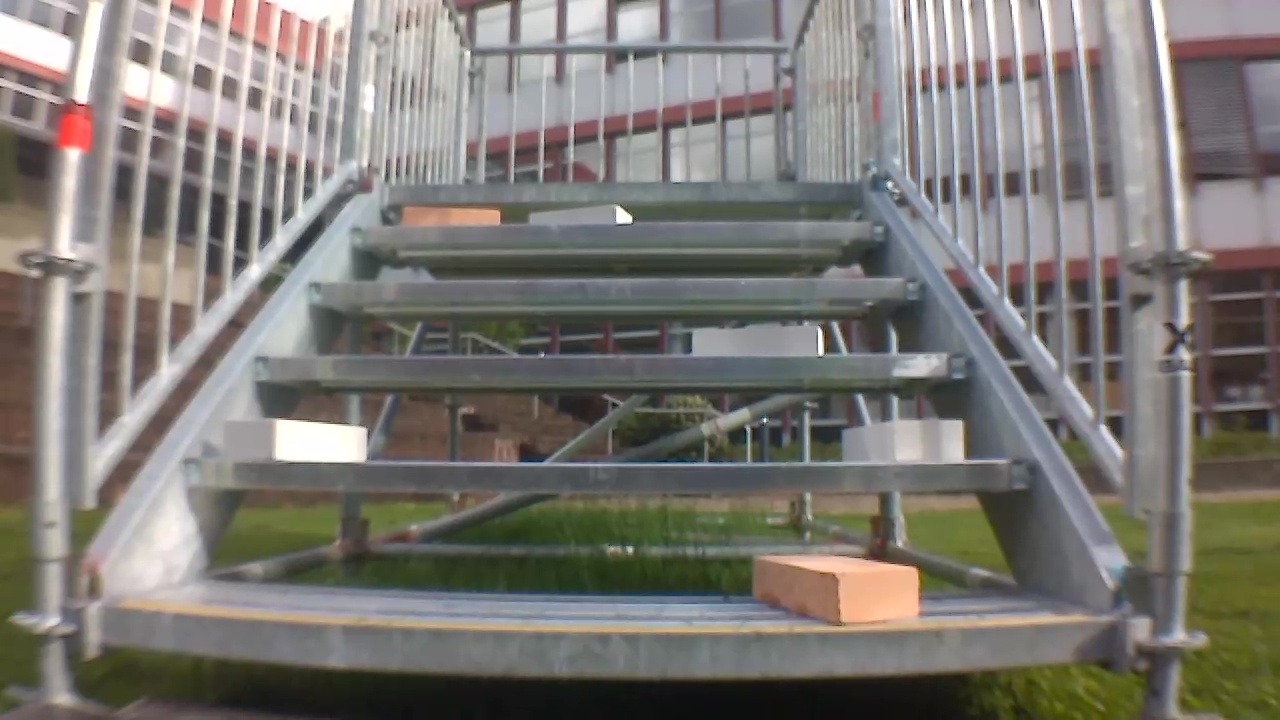brick: (752, 555, 917, 623), (223, 420, 368, 461), (843, 420, 963, 462), (693, 327, 823, 356), (528, 204, 630, 223), (404, 207, 499, 224)
edge: (103, 609, 1112, 675), (185, 458, 1034, 494), (252, 354, 970, 380), (303, 278, 924, 300), (350, 219, 887, 243), (389, 181, 858, 202)
stairs: (8, 4, 1198, 711)
steps: (101, 175, 1135, 690)
